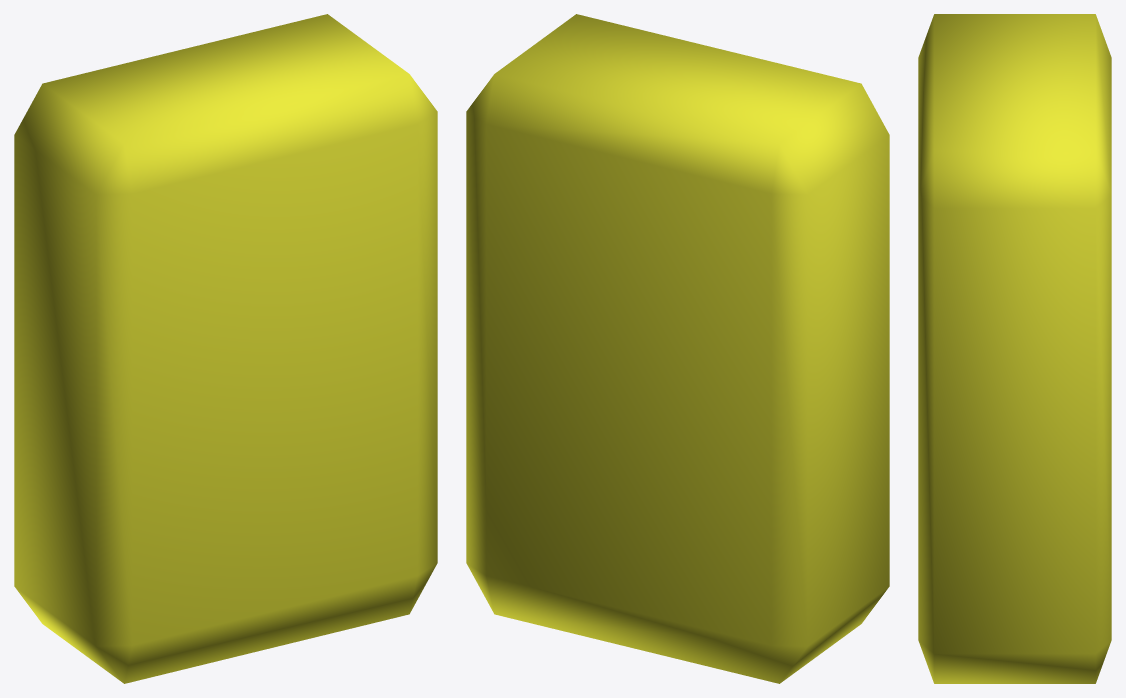
File: Sale_1kg.fbx
3 renders of one model, left to right at view 1: azimuth 30°, elevation 25°; view 2: azimuth 150°, elevation 25°; view 3: azimuth 270°, elevation 25°, orthographic.
Visible parts, largest first — view 1: Zucchero; view 2: Zucchero; view 3: Zucchero.
Boxes of the visible parts, x1=… form: Zucchero: x1=14, y1=14, x2=437, y2=683; Zucchero: x1=466, y1=14, x2=889, y2=683; Zucchero: x1=918, y1=14, x2=1111, y2=683.
Size of the model in its own units: 21.19 by 32.06 by 10.55.
